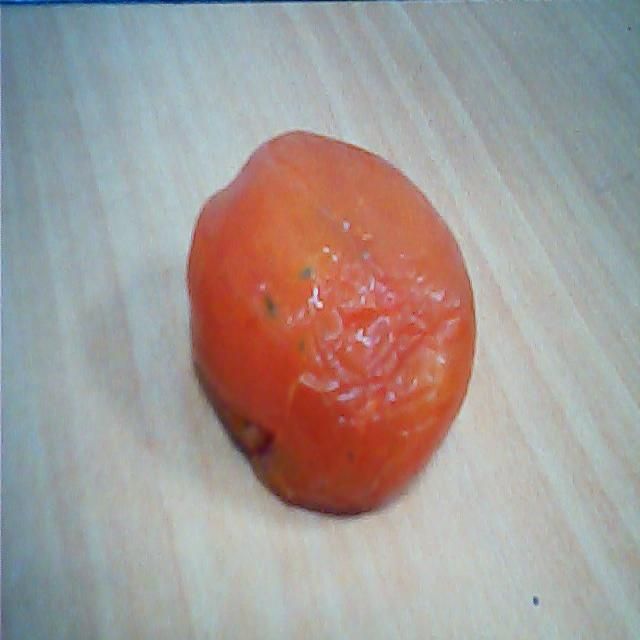defectuoso: (181, 129, 484, 522)
